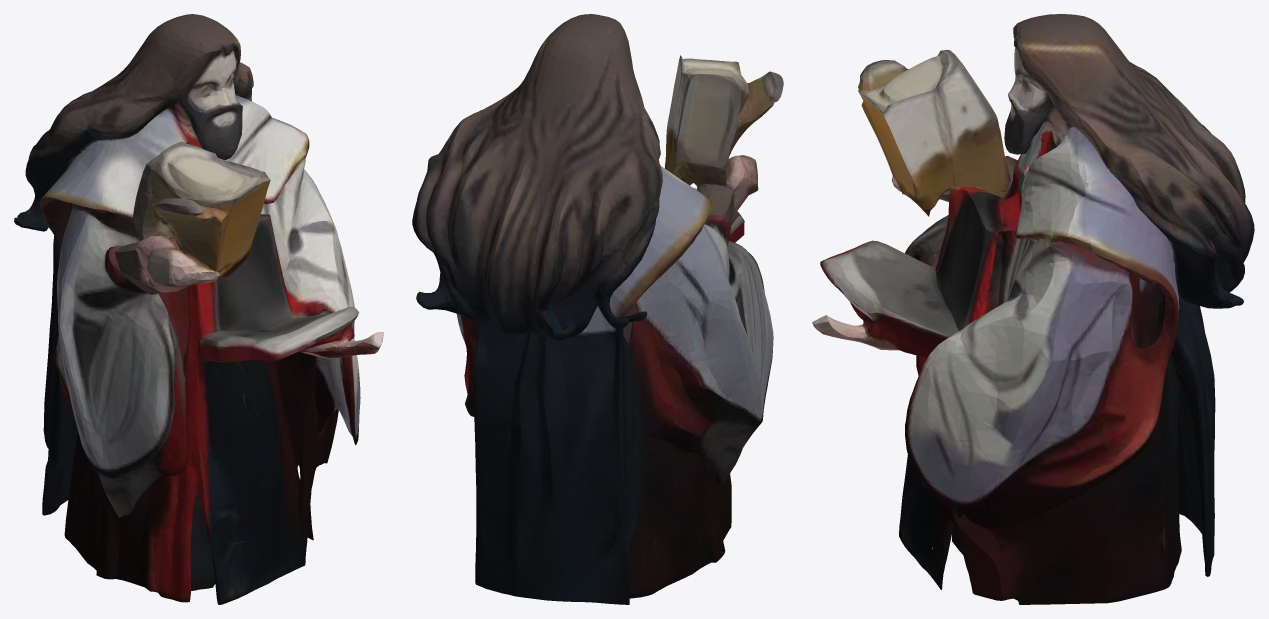
File: anime_renais_scholar.glb
The picture shows the model from 3 angles, left to right: view 1: azimuth 30°, elevation 25°; view 2: azimuth 150°, elevation 25°; view 3: azimuth 270°, elevation 25°; orthographic projection. The views are drawn at different scales.
Visible parts, largest first — view 1: geometry_0; view 2: geometry_0; view 3: geometry_0.
Boxes of the visible parts, x1=… form: geometry_0: x1=14, y1=14, x2=383, y2=604; geometry_0: x1=412, y1=14, x2=783, y2=604; geometry_0: x1=812, y1=14, x2=1254, y2=604.
Bounding box in the file's own units: 0.5855 × 1 × 0.7372.
1 material, 1 textured.
